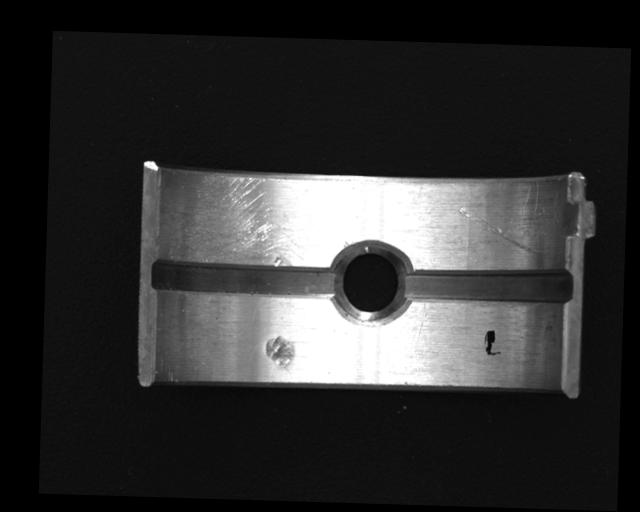blot: (482, 328, 502, 356)
bruise: (264, 334, 295, 373)
gap: (148, 257, 341, 300), (405, 266, 572, 306)
hole: (333, 240, 415, 325)
nick: (456, 206, 542, 256)
scratch: (166, 168, 339, 268)
